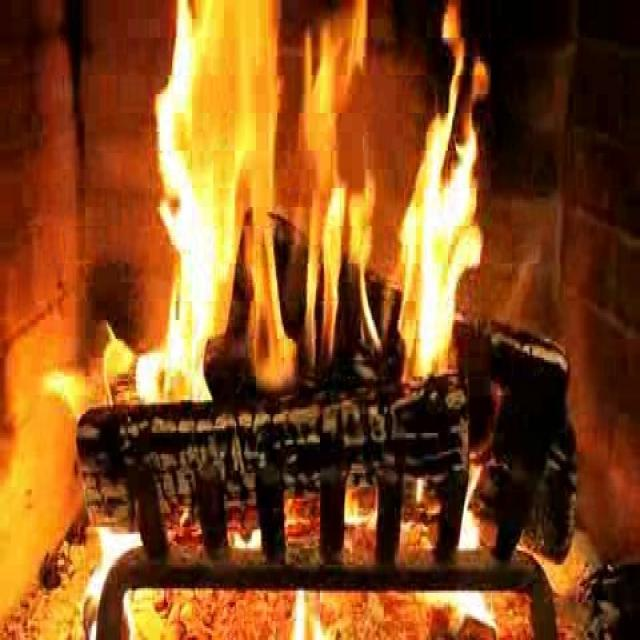Fire: (136, 9, 494, 407)
